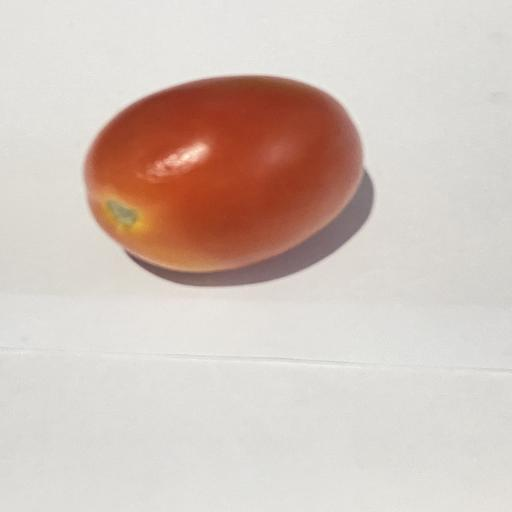ripe: (84, 75, 364, 273)
